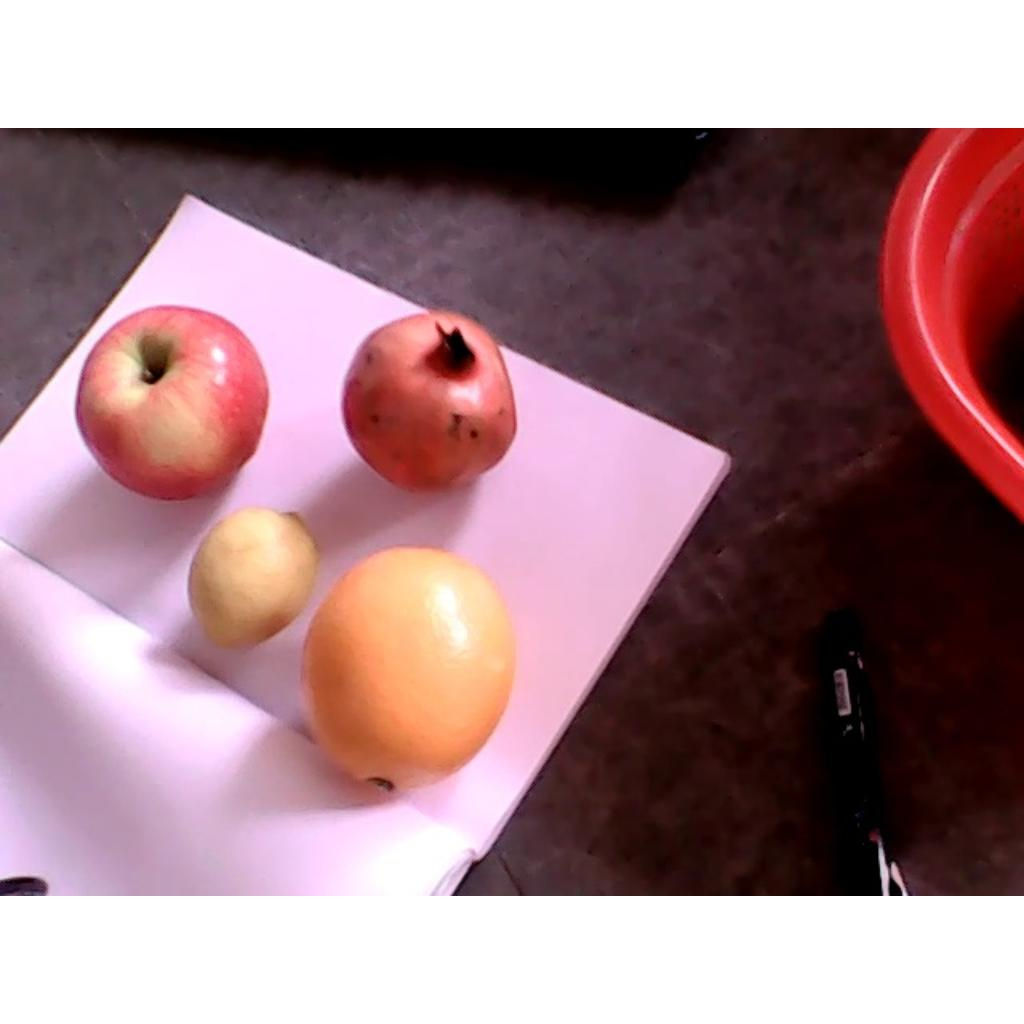apple: (75, 306, 270, 501)
lemon: (188, 506, 318, 647)
orange: (299, 544, 515, 798)
pomegranate: (341, 312, 517, 498)
